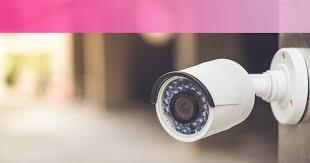tutu: (143, 55, 261, 146)
